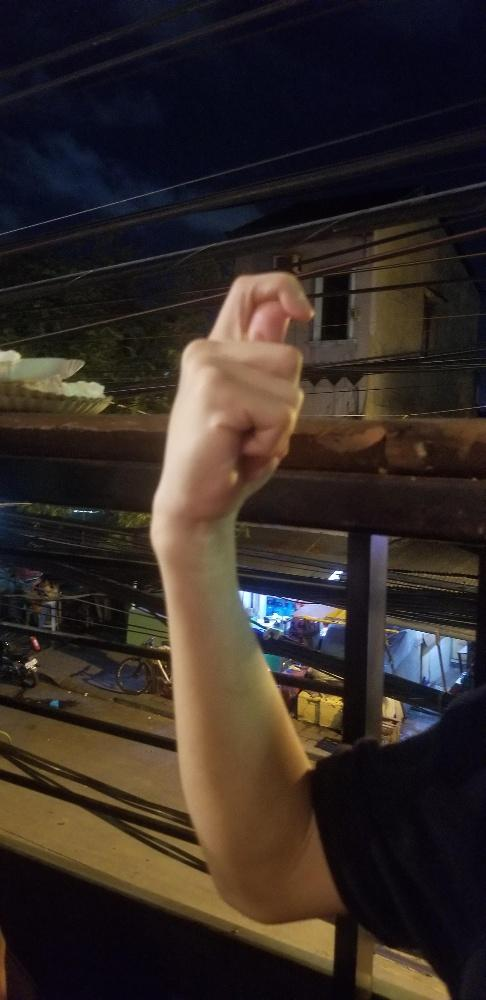t: (146, 264, 317, 542)
